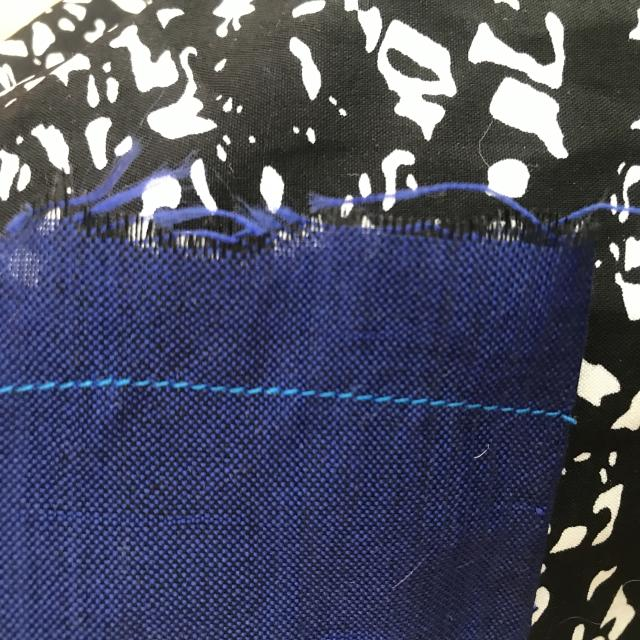good: (209, 380, 323, 406), (388, 394, 489, 417), (502, 398, 564, 427)
